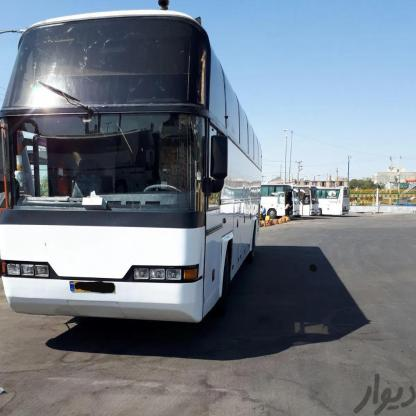Bus: (1, 7, 260, 332), (250, 170, 302, 225), (290, 179, 316, 219)
